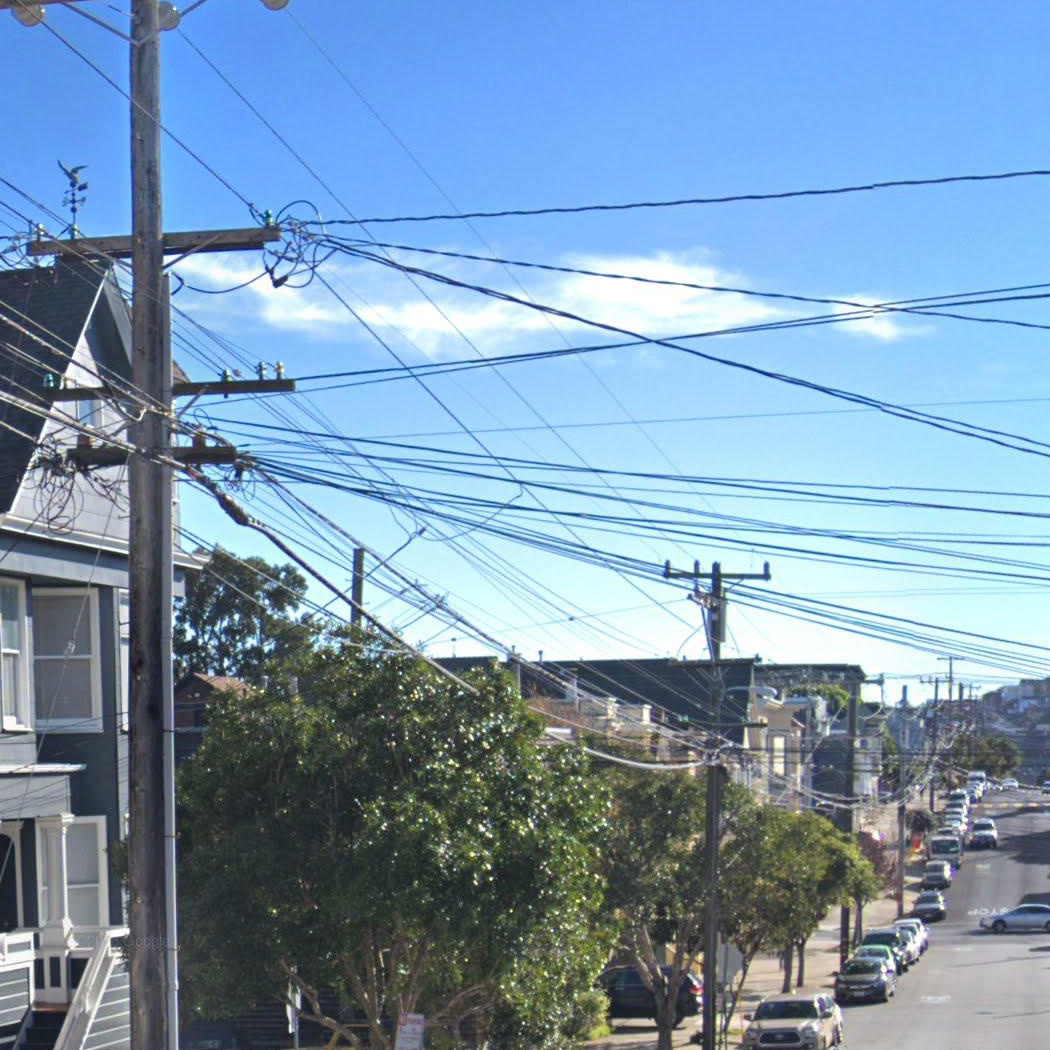No Parking: (395, 1013, 426, 1050)
